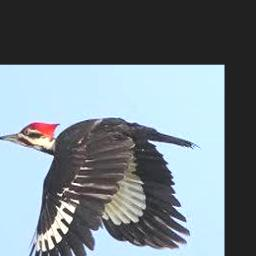Woodpecker: (0, 116, 202, 256)
